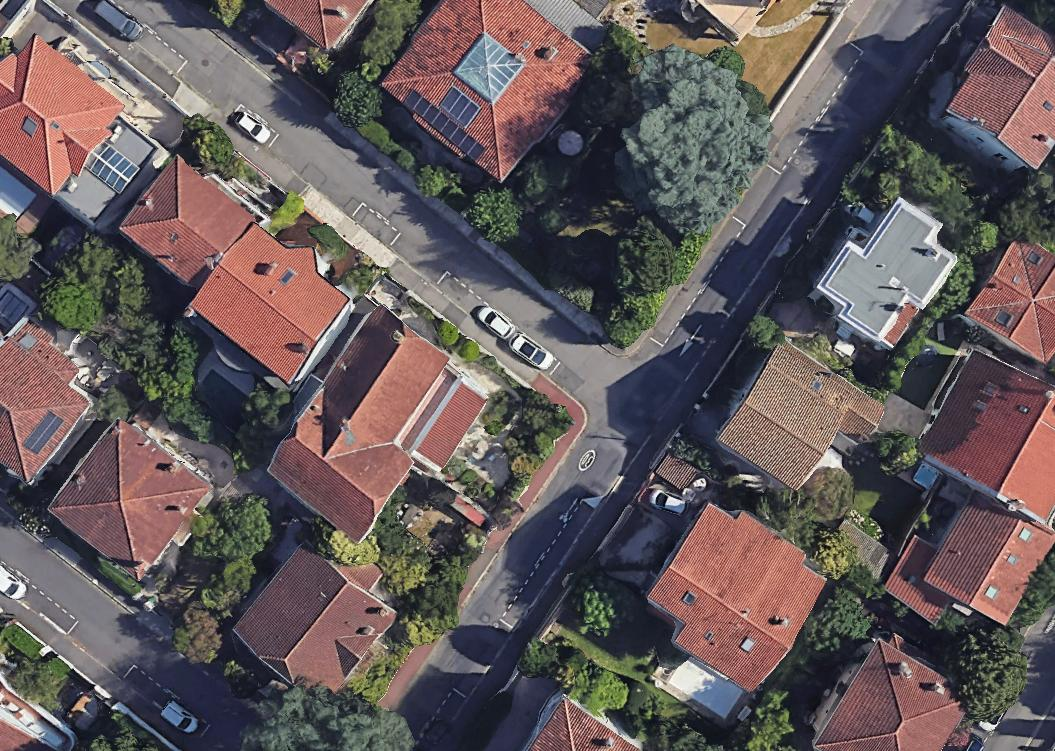maison: (256, 303, 497, 555), (371, 0, 622, 191), (632, 492, 839, 699), (880, 471, 1055, 656), (712, 338, 887, 511), (186, 210, 360, 383), (803, 183, 970, 359), (228, 539, 399, 710), (45, 414, 212, 582), (909, 346, 1055, 525), (926, 3, 1055, 189), (0, 28, 129, 201), (798, 630, 976, 751), (117, 157, 254, 293), (0, 324, 91, 483), (963, 232, 1055, 370), (522, 693, 638, 750), (264, 0, 372, 51)
